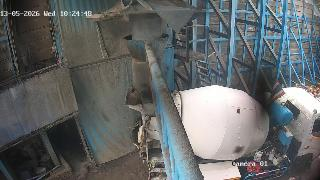cement_mixer_truck: (124, 81, 320, 180), (25, 140, 26, 140)
swing_chute: (124, 34, 169, 98)
